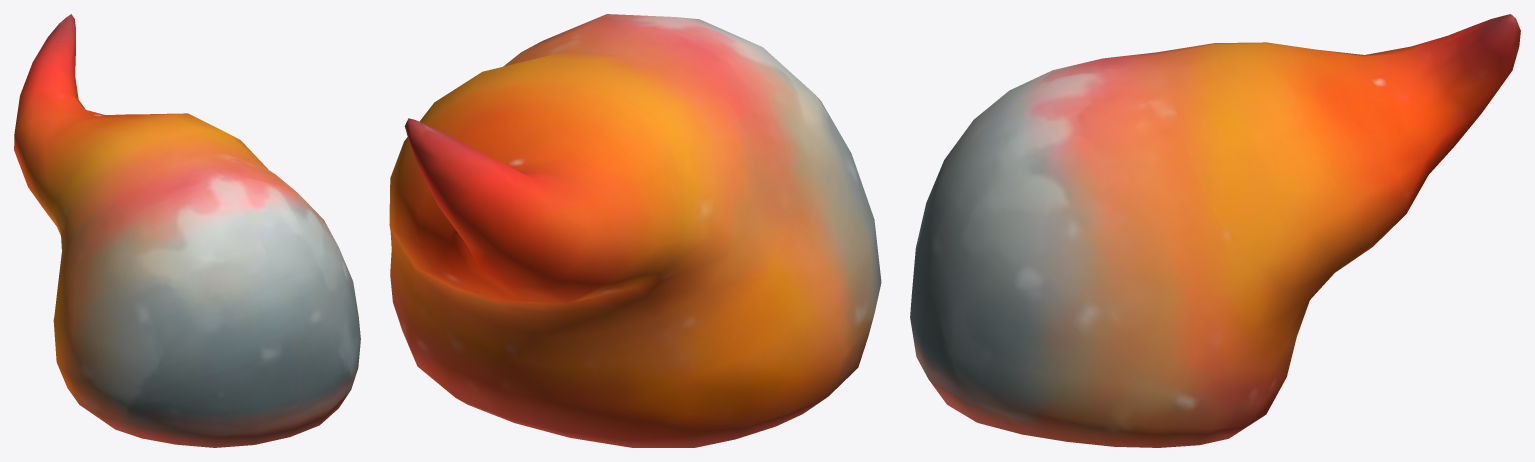
The picture shows the model from 3 angles, left to right: view 1: azimuth 30°, elevation 25°; view 2: azimuth 150°, elevation 25°; view 3: azimuth 270°, elevation 25°; orthographic projection. The views are drawn at different scales.
Visible parts, largest first — view 1: SM_Molten_Glass_01_LOD0; view 2: SM_Molten_Glass_01_LOD0; view 3: SM_Molten_Glass_01_LOD0.
Boxes of the visible parts, box(x1,y1,x2,y2) form: SM_Molten_Glass_01_LOD0: box(14, 14, 360, 447); SM_Molten_Glass_01_LOD0: box(389, 14, 881, 447); SM_Molten_Glass_01_LOD0: box(910, 14, 1520, 447).
Size of the model in its own units: 0.2736 by 0.2733 by 0.3938.
1 material, 1 textured.
